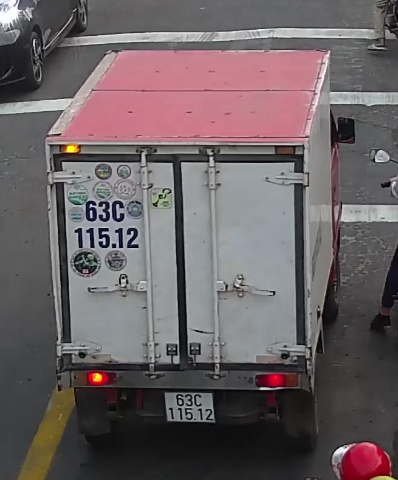vehicle plate: (156, 387, 220, 426)
